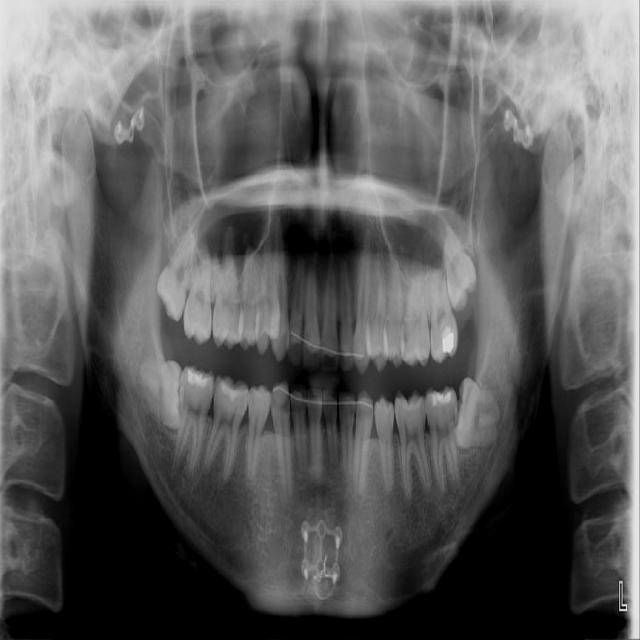Filling: (220, 379, 246, 404), (437, 324, 456, 357), (429, 390, 452, 409), (186, 368, 209, 387)
impacted tooth: (119, 362, 182, 427), (433, 218, 478, 305), (452, 377, 505, 446)
